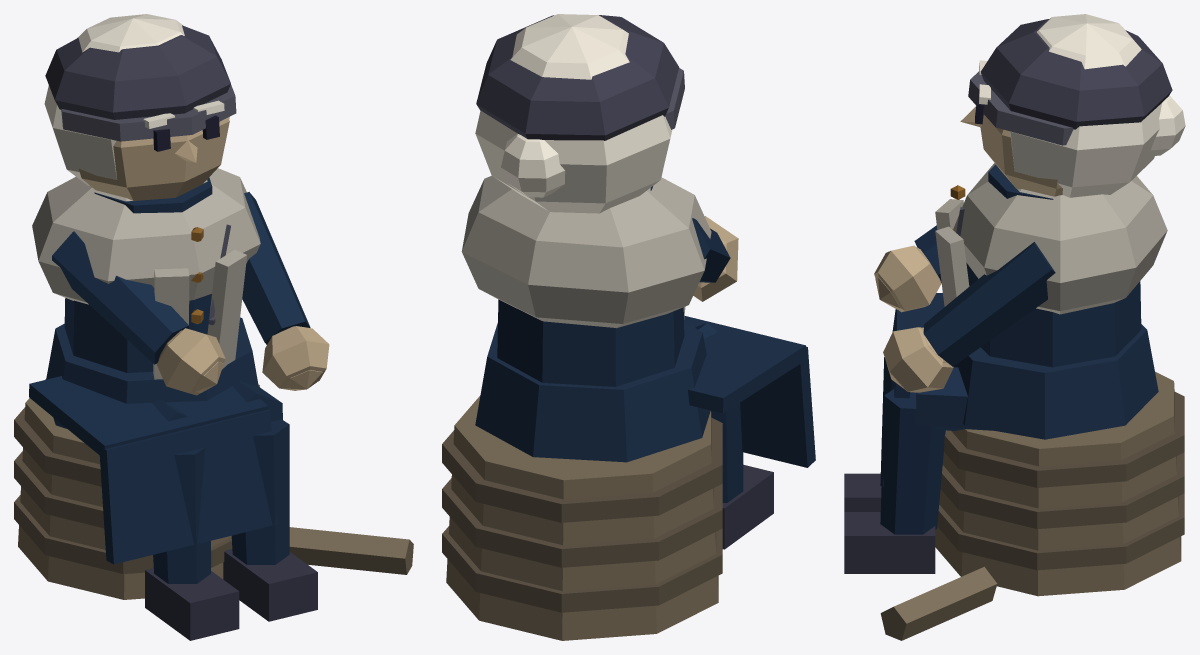
Rendered from wenna_nobrass.glb.
The picture shows the model from 3 angles, left to right: view 1: azimuth 30°, elevation 25°; view 2: azimuth 150°, elevation 25°; view 3: azimuth 270°, elevation 25°; orthographic projection. The views are drawn at different scales.
Visible parts, largest first — view 1: LegL, Torso, Head, Stool, ArmR, LegR, ArmL; view 2: Torso, Stool, Head, LegL, LegR, ArmR; view 3: Stool, Torso, Head, LegL, ArmL, ArmR, LegR.
Boxes of the visible parts, x1,y1,x2,y2 form: LegL: (29,376,317,621); Torso: (32,168,260,428); Head: (44,14,236,200); Stool: (14,379,413,599); ArmR: (52,231,225,395); LegR: (145,399,239,640); ArmL: (242,192,329,390); Torso: (461,175,711,462); Stool: (442,396,722,640); Head: (475,14,684,213); LegL: (684,316,815,467); LegR: (695,323,773,549); ArmR: (692,216,738,301); Stool: (880,371,1184,640); Torso: (935,163,1167,439); Head: (960,14,1185,197); LegL: (844,293,992,573); ArmL: (883,242,1055,392); ArmR: (874,225,941,312); LegR: (844,357,892,511).
Bounding box in the file's own units: 0.9053 × 1.46 × 0.8561.
